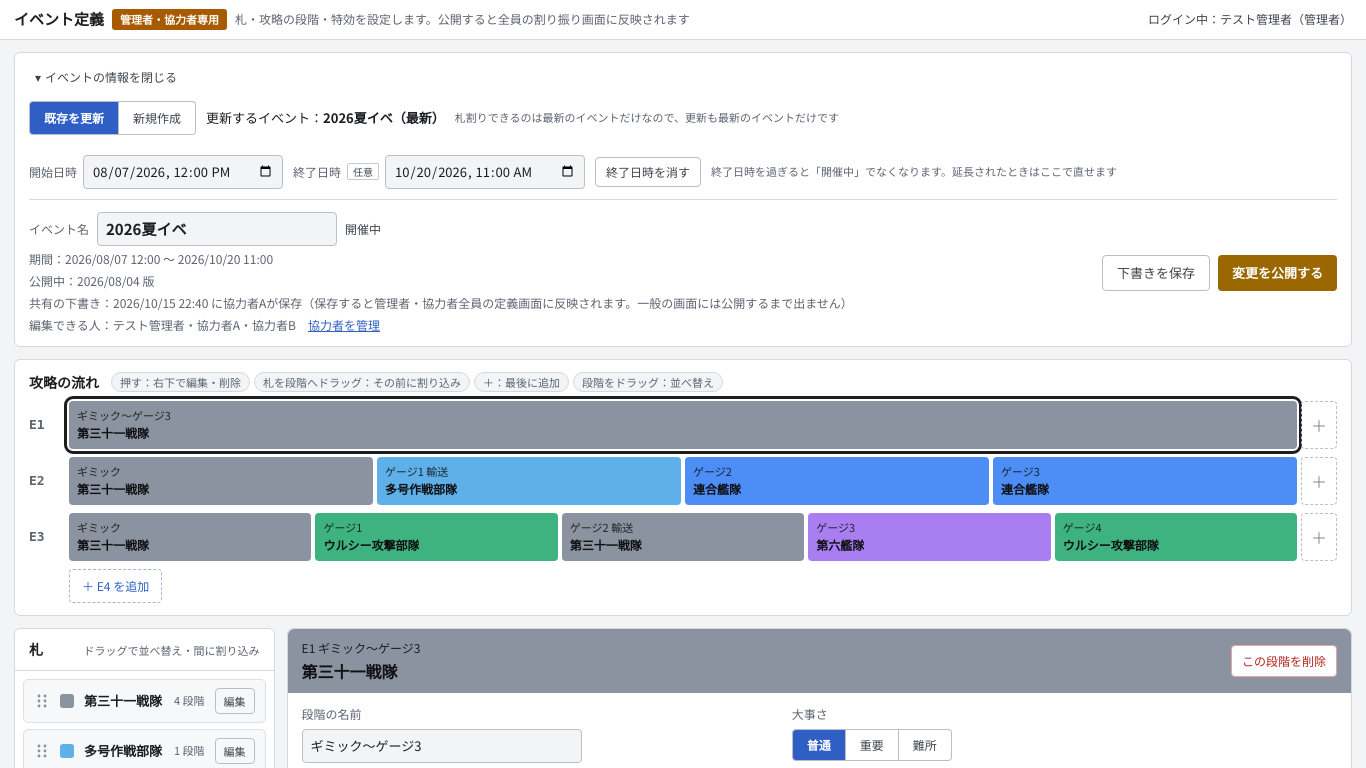
Scenario: イベント定義の画面（PlanEditor）：上部の欄 › 開始日時・終了日時 › 「終了日時を消す」を押すと、終了日時を未定（null）にする更新を呼び、入力欄を空にして「終了日時は未定」と出す
The image size is (1366, 768).
Check: the element "攻略の流れ" is shown, box [14, 358, 1352, 616]
Click the button "終了日時を消す" at (648, 172), box [595, 156, 701, 186]
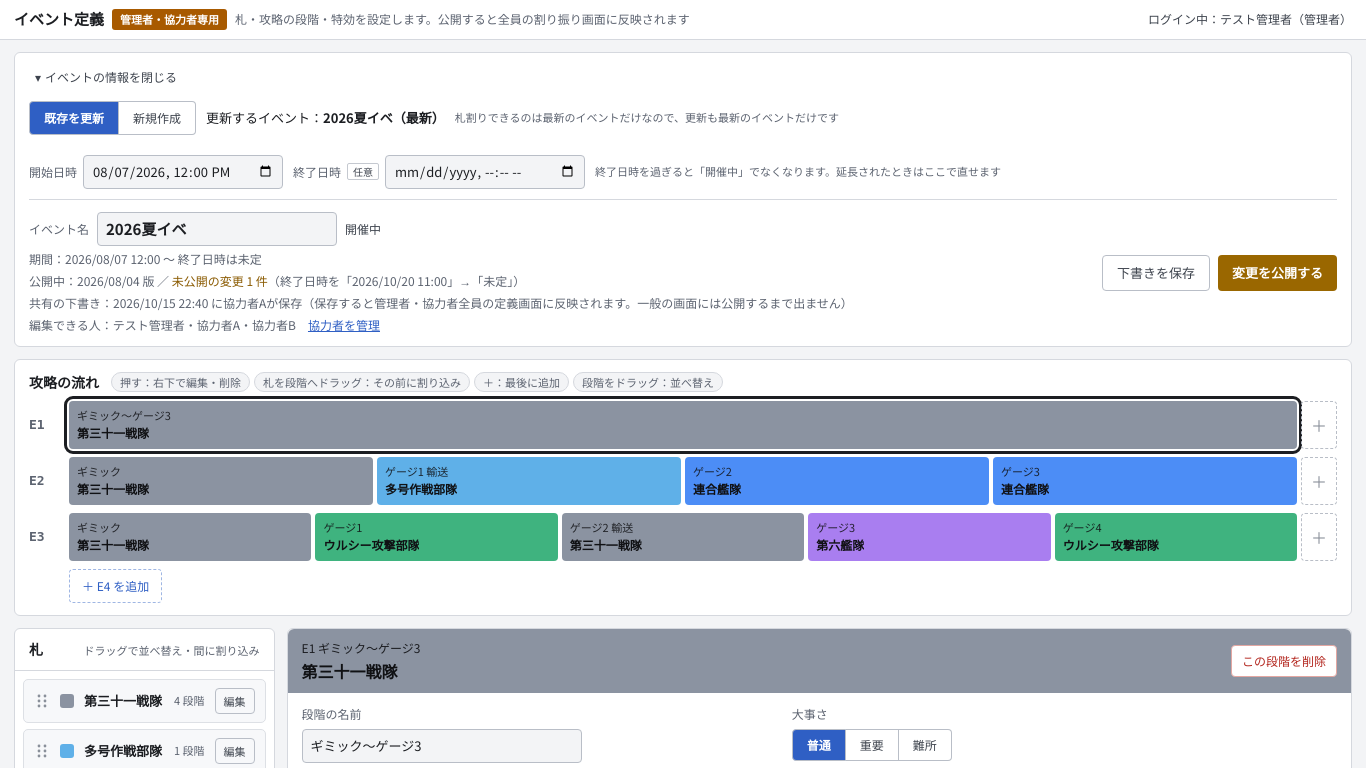
Check: the field labelled "終了日時 任意" is empty, box [385, 154, 585, 188]
Check: the button "終了日時を消す" is gone
